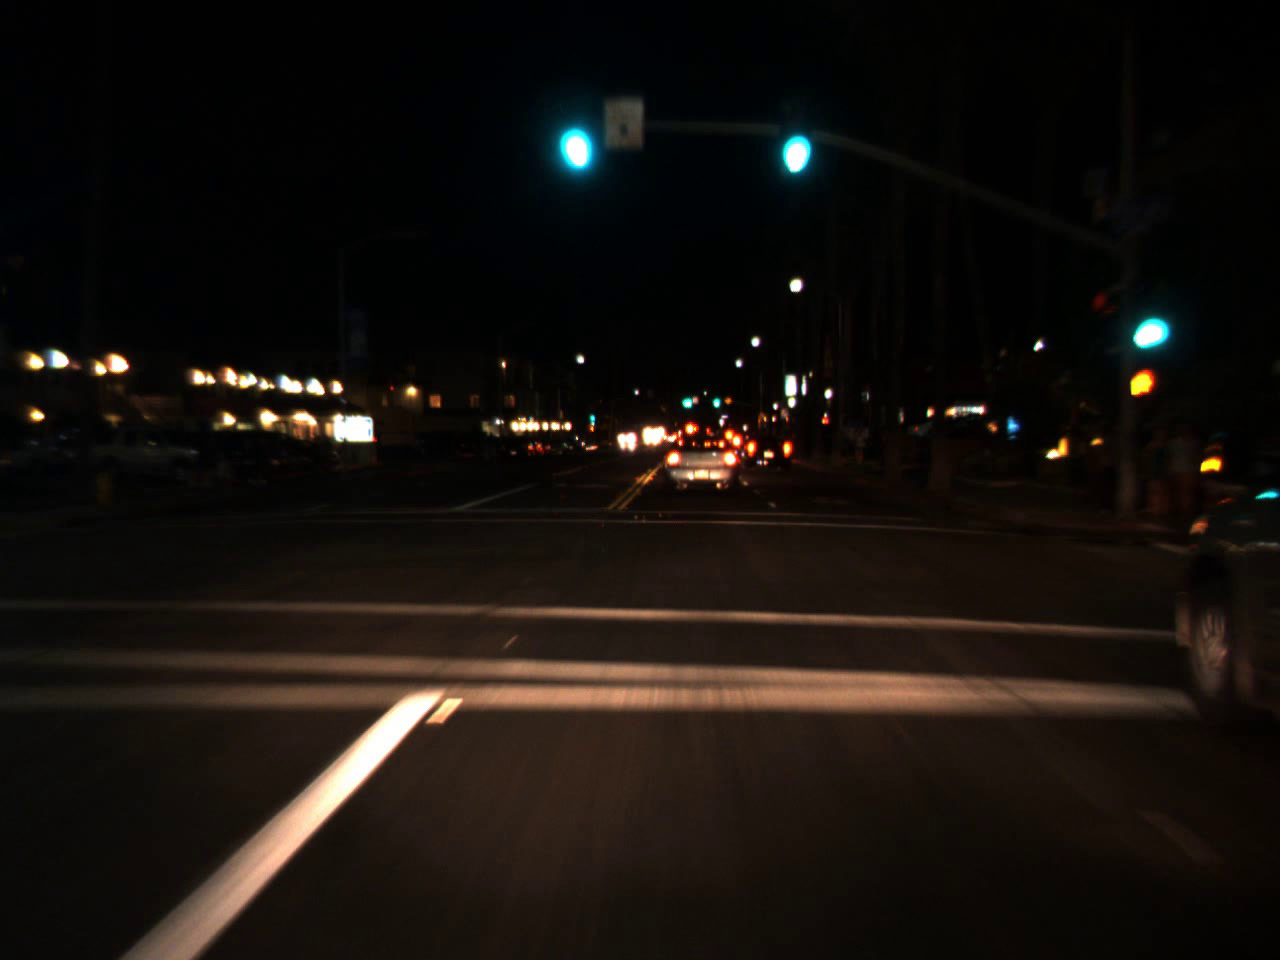go: (1119, 282, 1171, 360), (552, 89, 595, 176), (772, 101, 815, 185), (678, 386, 694, 410), (711, 390, 721, 408), (588, 409, 595, 421)
